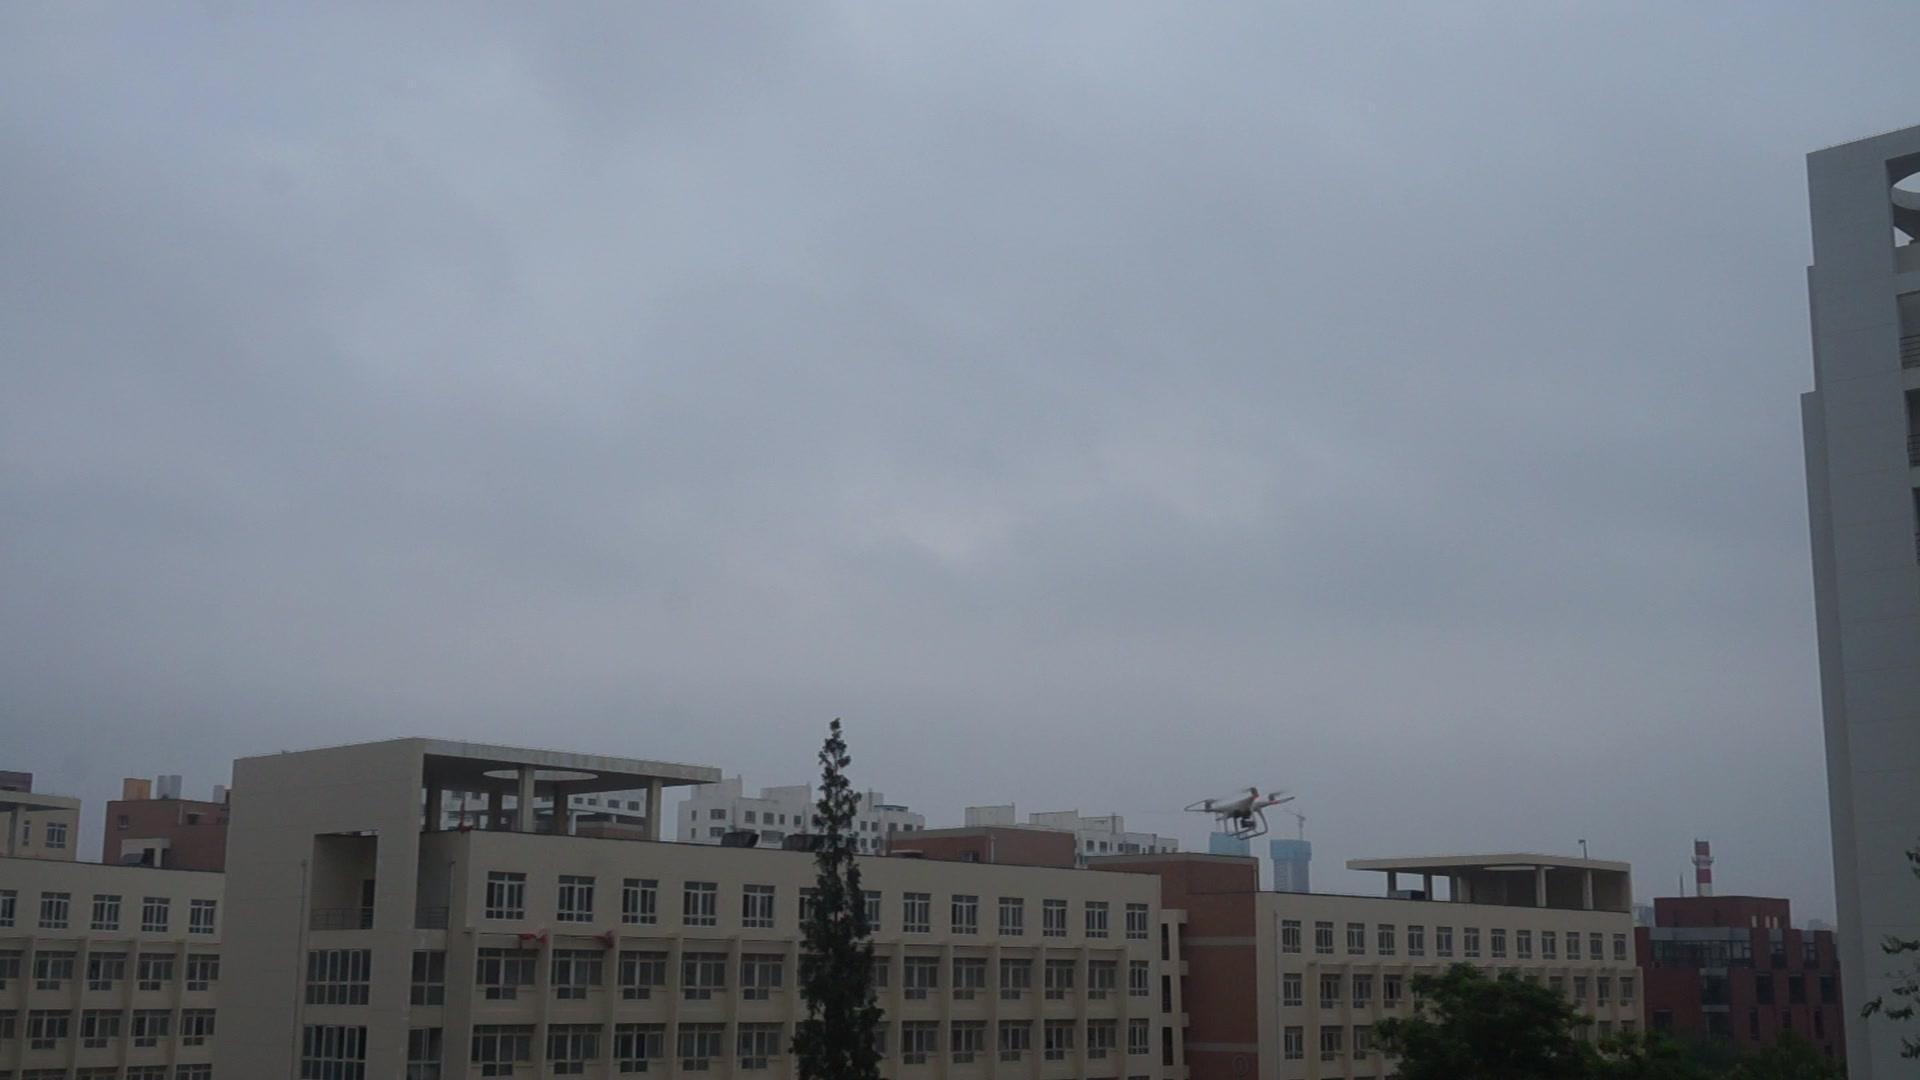UAV: (1184, 787, 1298, 840)
